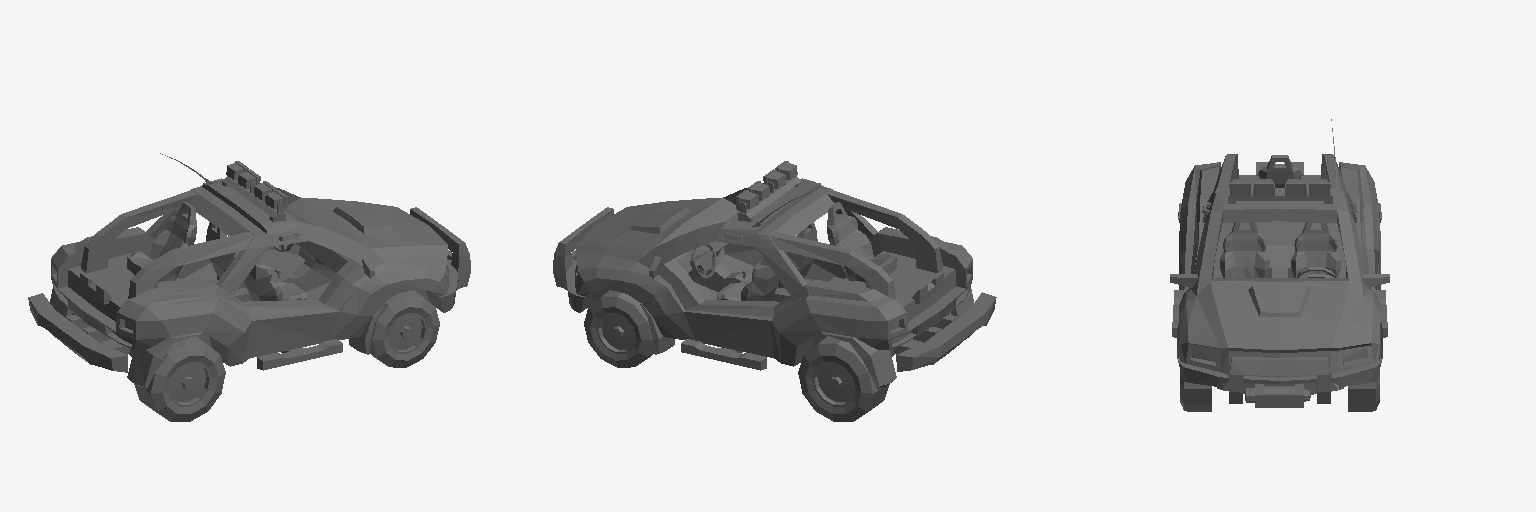
Rendered from beast.obj.
3 views of the same model, side by side, from view 1: azimuth 30°, elevation 25°; view 2: azimuth 150°, elevation 25°; view 3: azimuth 270°, elevation 25° (orthographic).
Parts seen in each view (by area): view 1: Beast; view 2: Beast; view 3: Beast.
Part boxes in pixels (x1,y1,x2,y2): Beast: (28, 153, 470, 421); Beast: (553, 161, 996, 421); Beast: (1170, 119, 1389, 411).
Size of the model in its own units: 2.9 by 1.48 by 1.42.